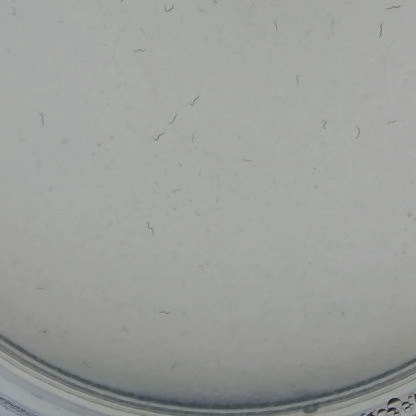worm: (140, 124, 172, 152), (118, 44, 152, 65), (344, 120, 366, 148), (368, 22, 397, 42), (314, 112, 339, 135), (153, 0, 179, 22), (283, 72, 310, 93), (110, 0, 137, 21), (30, 105, 54, 128), (264, 16, 286, 40), (138, 220, 164, 240), (182, 94, 207, 114), (4, 0, 28, 20), (168, 179, 190, 200), (321, 14, 346, 32), (378, 0, 405, 16), (165, 109, 185, 129), (154, 305, 179, 321), (381, 116, 403, 132), (240, 154, 255, 169)
